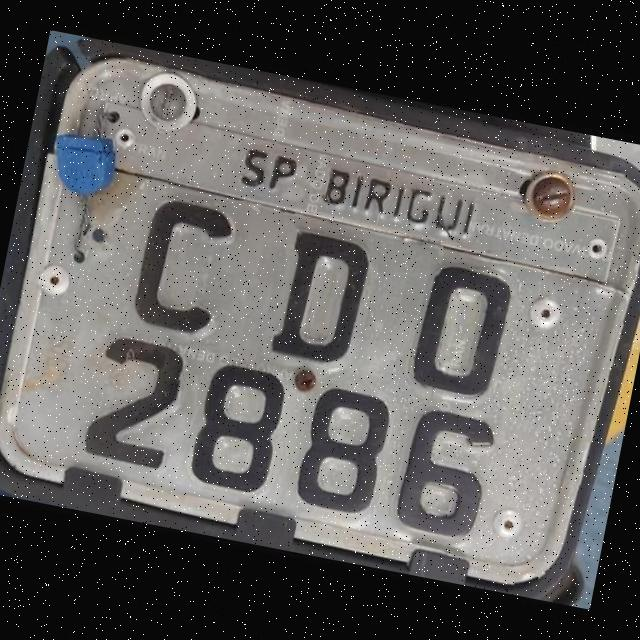Caractere: (121, 188, 244, 346), (386, 398, 504, 546), (406, 256, 518, 404), (80, 331, 188, 473), (272, 224, 378, 368), (185, 358, 291, 499), (291, 379, 397, 519)
Placa: (0, 45, 640, 609)
